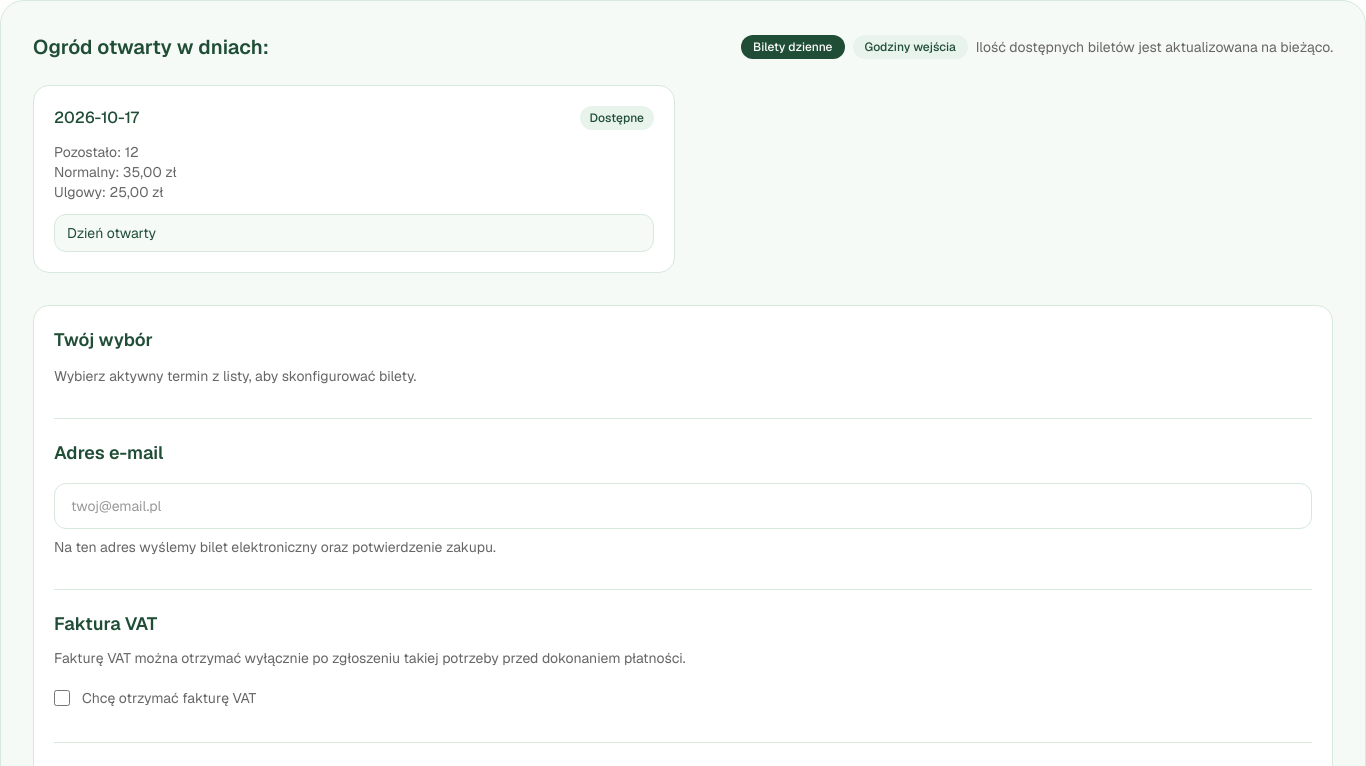
daily calendar › stays on day tickets until the visitor switches to entry hours
This screenshot has width=1366, height=766.
Expected: the button "2026-10-17" is shown, [33,85,675,273]
Expected: the text "Pozostało: 12" is shown, [54,143,139,161]
Click the button "Godziny wejścia": {"x": 910, "y": 47} [852,35,968,59]
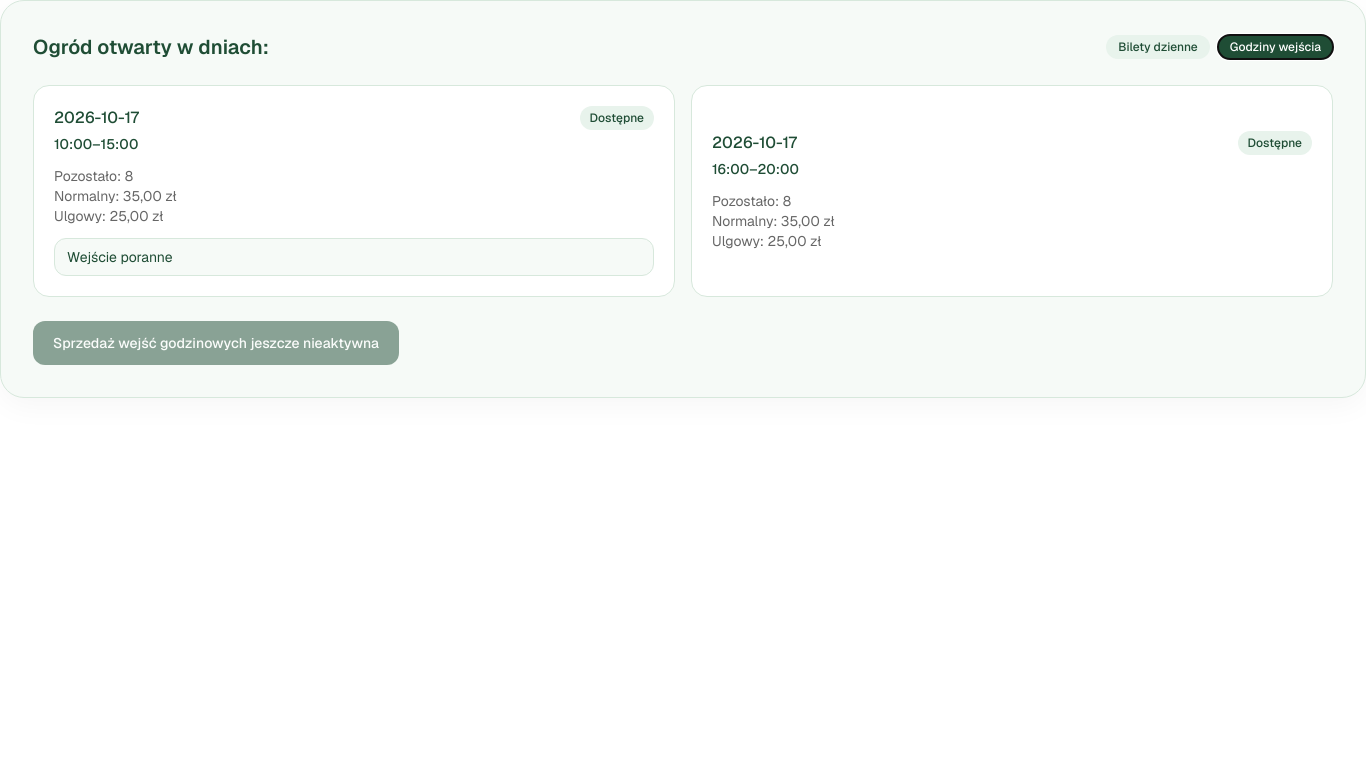
Expected: the button "Sprzedaż wejść godzinowych jeszcze nieaktywna" is disabled, [33,321,399,365]
Result: the button "10:00–15:00" is shown at [33,85,675,297]
Result: the button "16:00–20:00" is shown at [691,85,1333,297]
